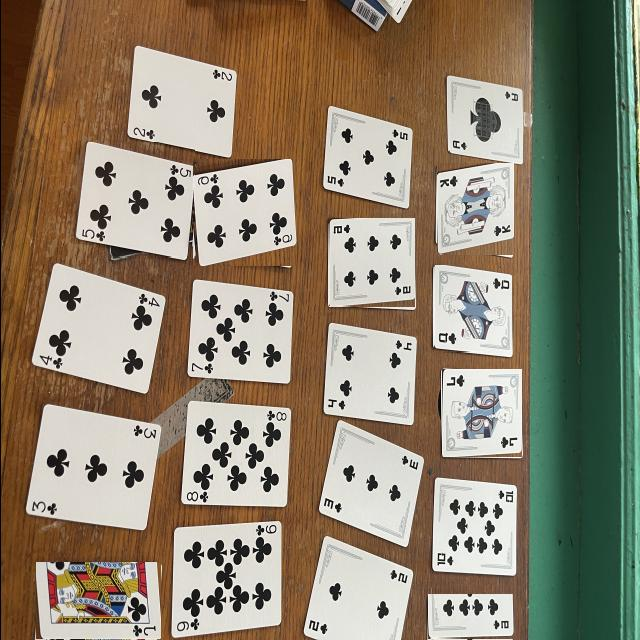6 of clubs: (76, 142, 194, 257), (192, 160, 295, 266), (328, 219, 414, 306)
9 of clubs: (171, 522, 280, 640), (427, 595, 513, 638)
Ace of clubs: (448, 76, 522, 163)
Jack of clubs: (35, 563, 160, 639), (441, 369, 520, 457)
King of clubs: (436, 164, 512, 254)
Queen of clubs: (433, 266, 511, 352)
